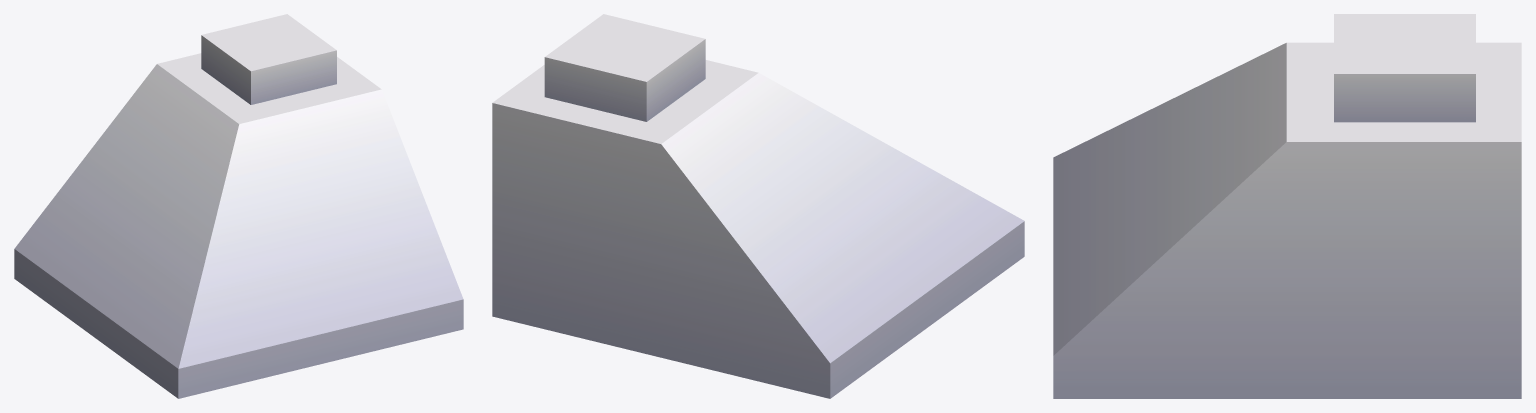
Rendered from kenney-brick-square-lq-brick-slope-corner-outside-2-x-2.glb.
The picture shows the model from 3 angles, left to right: view 1: azimuth 30°, elevation 25°; view 2: azimuth 150°, elevation 25°; view 3: azimuth 270°, elevation 25°; orthographic projection. The views are drawn at different scales.
Parts seen in each view (by area): view 1: square-lq-brick-slope-corner-outside-2x2; view 2: square-lq-brick-slope-corner-outside-2x2; view 3: square-lq-brick-slope-corner-outside-2x2.
Boxes of the visible parts, <box> form: square-lq-brick-slope-corner-outside-2x2: <box>14,14,463,398</box>; square-lq-brick-slope-corner-outside-2x2: <box>492,14,1024,398</box>; square-lq-brick-slope-corner-outside-2x2: <box>1053,14,1521,398</box>.
Bounding box in the file's own units: 0.159 × 0.114 × 0.1585.
1 material, 1 textured.
